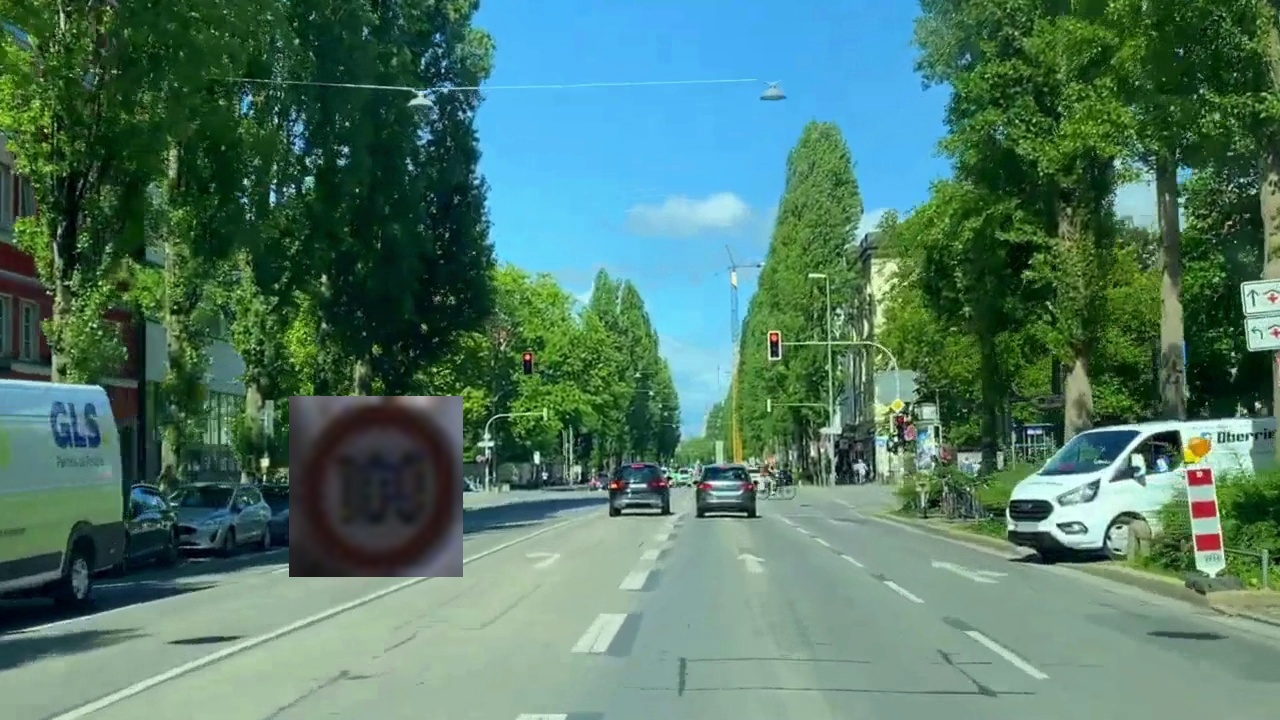Speed 100: (289, 396, 463, 577)
